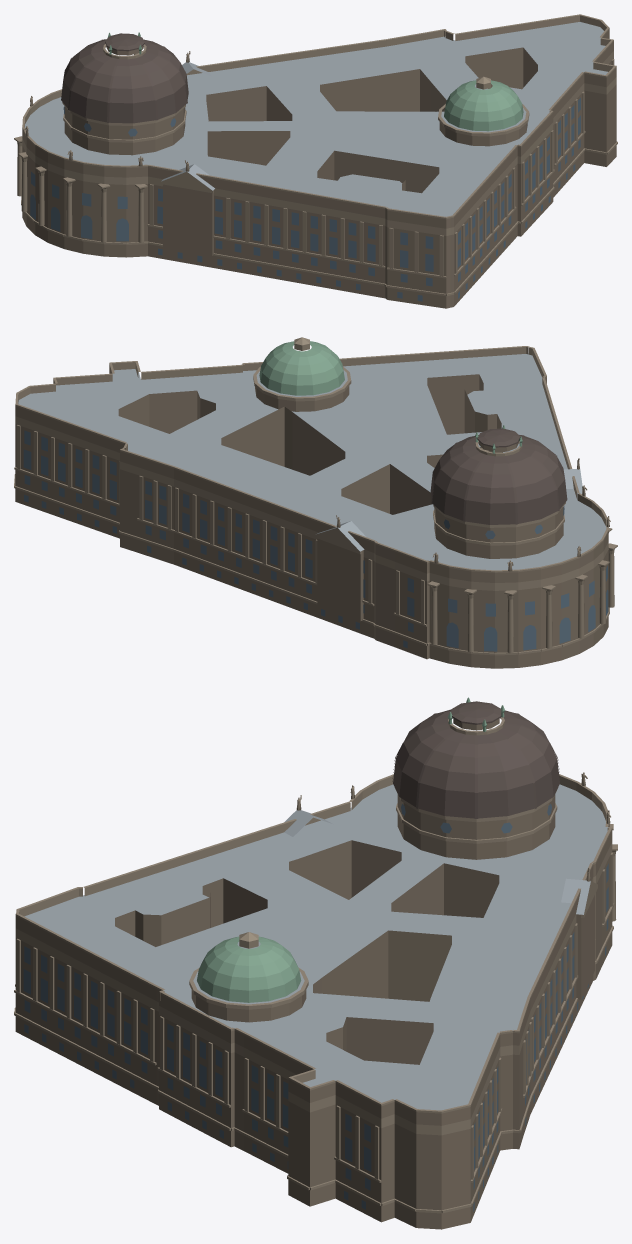
The model's file is berlin-bode-museum.glb.
The picture shows the model from 3 angles, top to bottom: view 1: azimuth 30°, elevation 25°; view 2: azimuth 150°, elevation 25°; view 3: azimuth 270°, elevation 25°; orthographic projection. The views are drawn at different scales.
Visible parts, largest first — view 1: Bode-Museum; view 2: Bode-Museum; view 3: Bode-Museum.
Boxes of the visible parts, x1,y1,x2,y2 form: Bode-Museum: [14, 14, 617, 308]; Bode-Museum: [14, 337, 617, 668]; Bode-Museum: [14, 697, 617, 1229].
Size of the model in its own units: 144 by 43.2 by 104.
